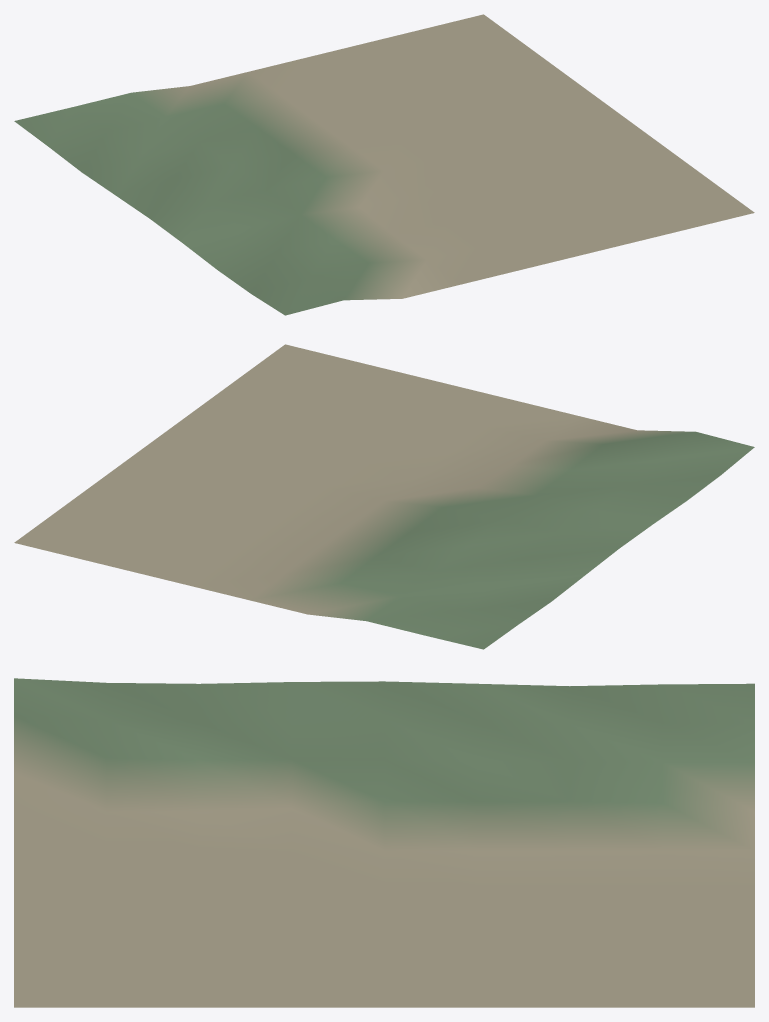
The picture shows the model from 3 angles, top to bottom: view 1: azimuth 30°, elevation 25°; view 2: azimuth 150°, elevation 25°; view 3: azimuth 270°, elevation 25°; orthographic projection. The views are drawn at different scales.
Visible parts, largest first — view 1: Lo; view 2: Lo; view 3: Lo.
Part boxes in pixels (x1,y1,x2,y2): Lo: [14, 14, 754, 315]; Lo: [14, 344, 754, 649]; Lo: [14, 678, 754, 1007].
Size of the model in its own units: 256 by 6.7 by 256.
